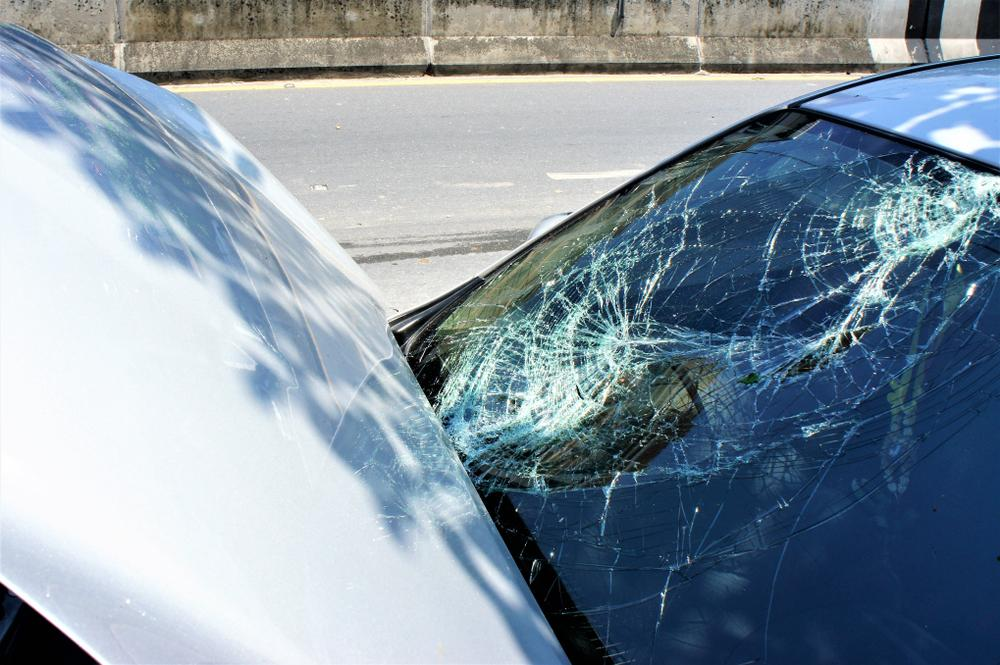glass shatter: (394, 108, 1000, 665)
